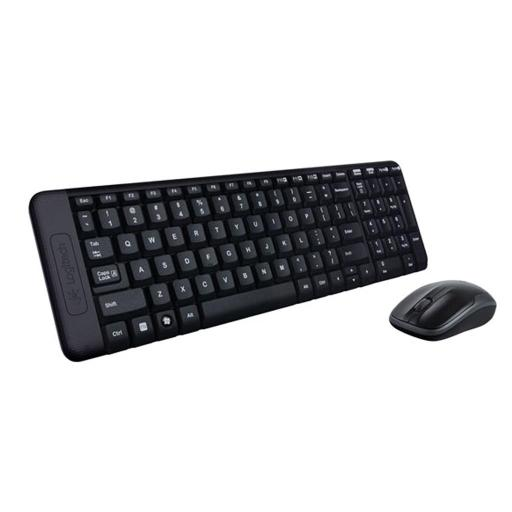keyboard: (30, 162, 427, 360)
